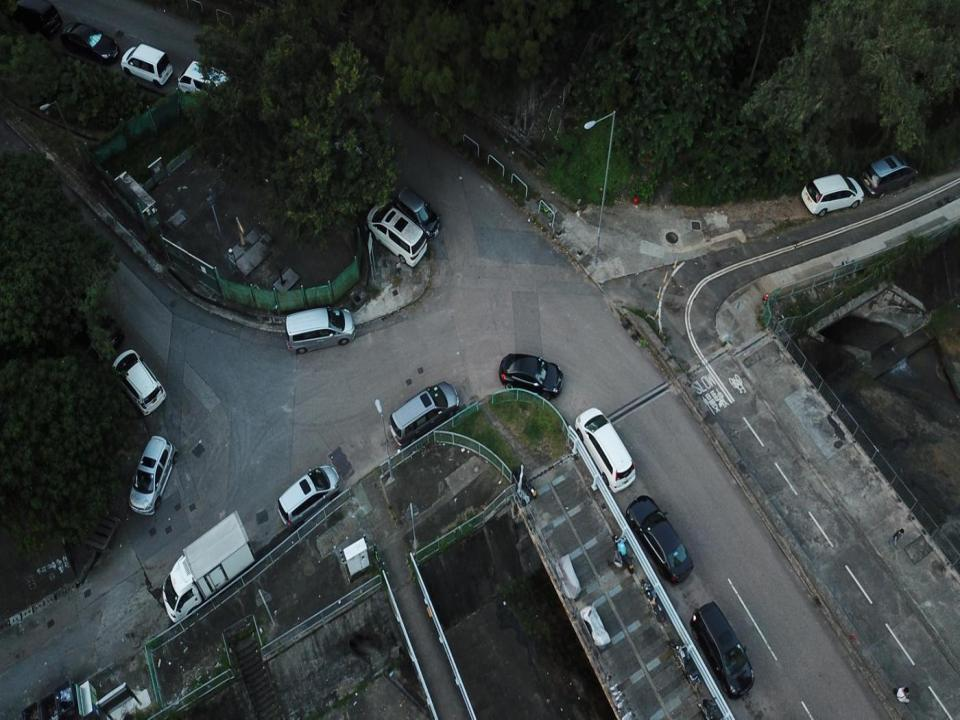car: (689, 601, 754, 698), (626, 495, 694, 587), (575, 408, 636, 492), (390, 382, 460, 449), (365, 201, 428, 268), (278, 464, 342, 527), (129, 435, 178, 515), (111, 350, 167, 416), (498, 354, 564, 400), (75, 296, 125, 353), (801, 173, 864, 218), (390, 186, 440, 242), (61, 23, 119, 66), (862, 154, 918, 197), (121, 43, 172, 86)
truck: (163, 510, 255, 623)
van: (283, 306, 355, 355), (178, 60, 239, 105), (15, 1, 62, 38)
